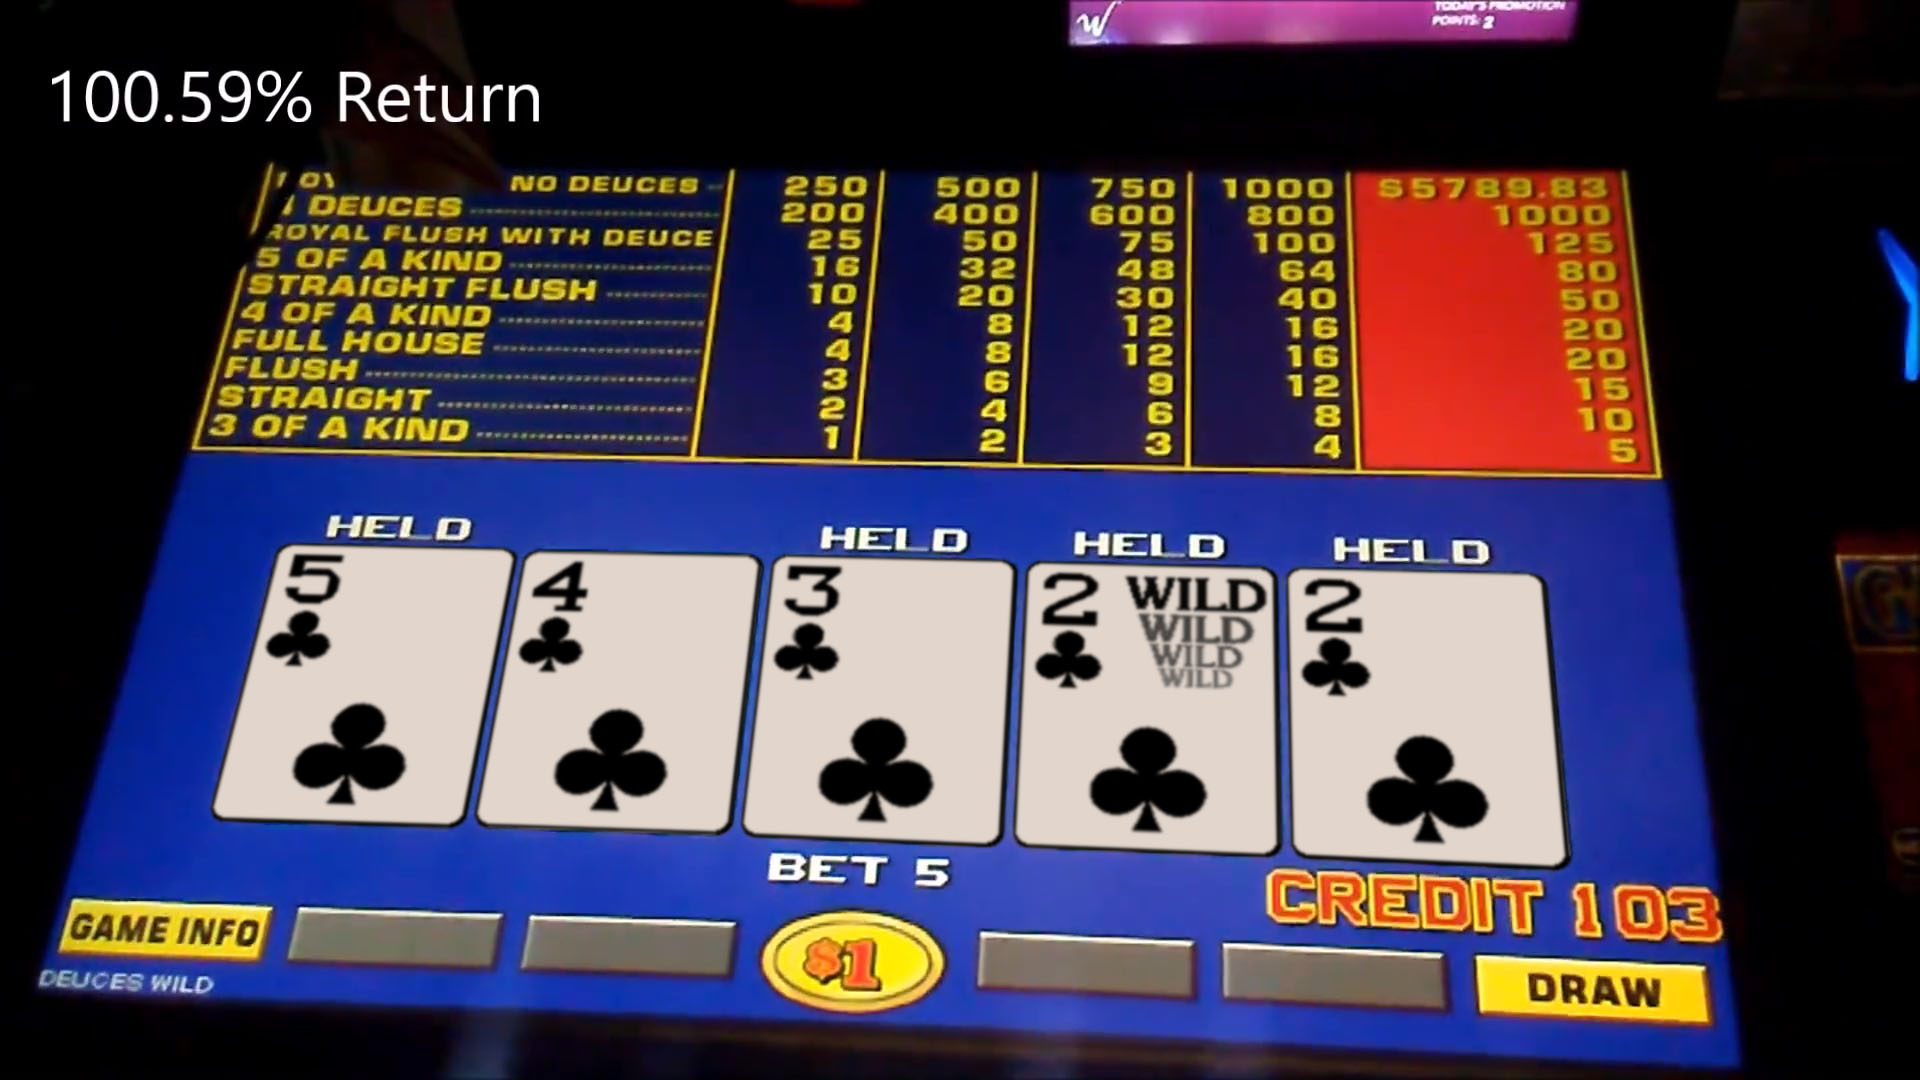C2: (1294, 575, 1540, 707)
C2W: (1027, 566, 1270, 704)
C3: (771, 558, 1007, 696)
C4: (520, 553, 745, 688)
C5: (265, 549, 491, 684)
